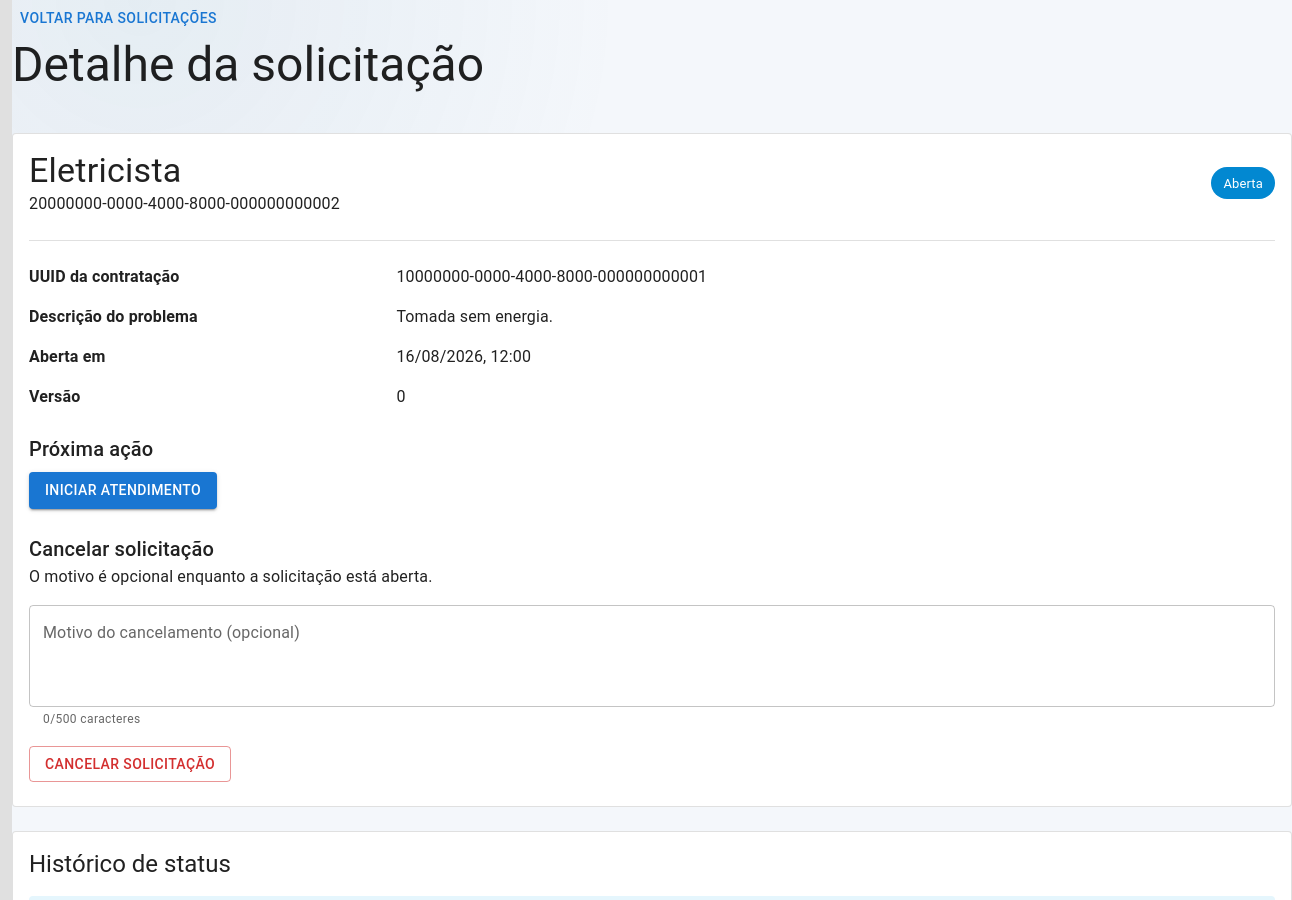
Test case: PaginaDetalheSolicitacao › inicia a solicitacao aberta e apresenta o estado confirmado pela API
The width and height of the screenshot is (1292, 900).
Click the button "Iniciar atendimento". click: (123, 491)
box: [29,472,217,509]
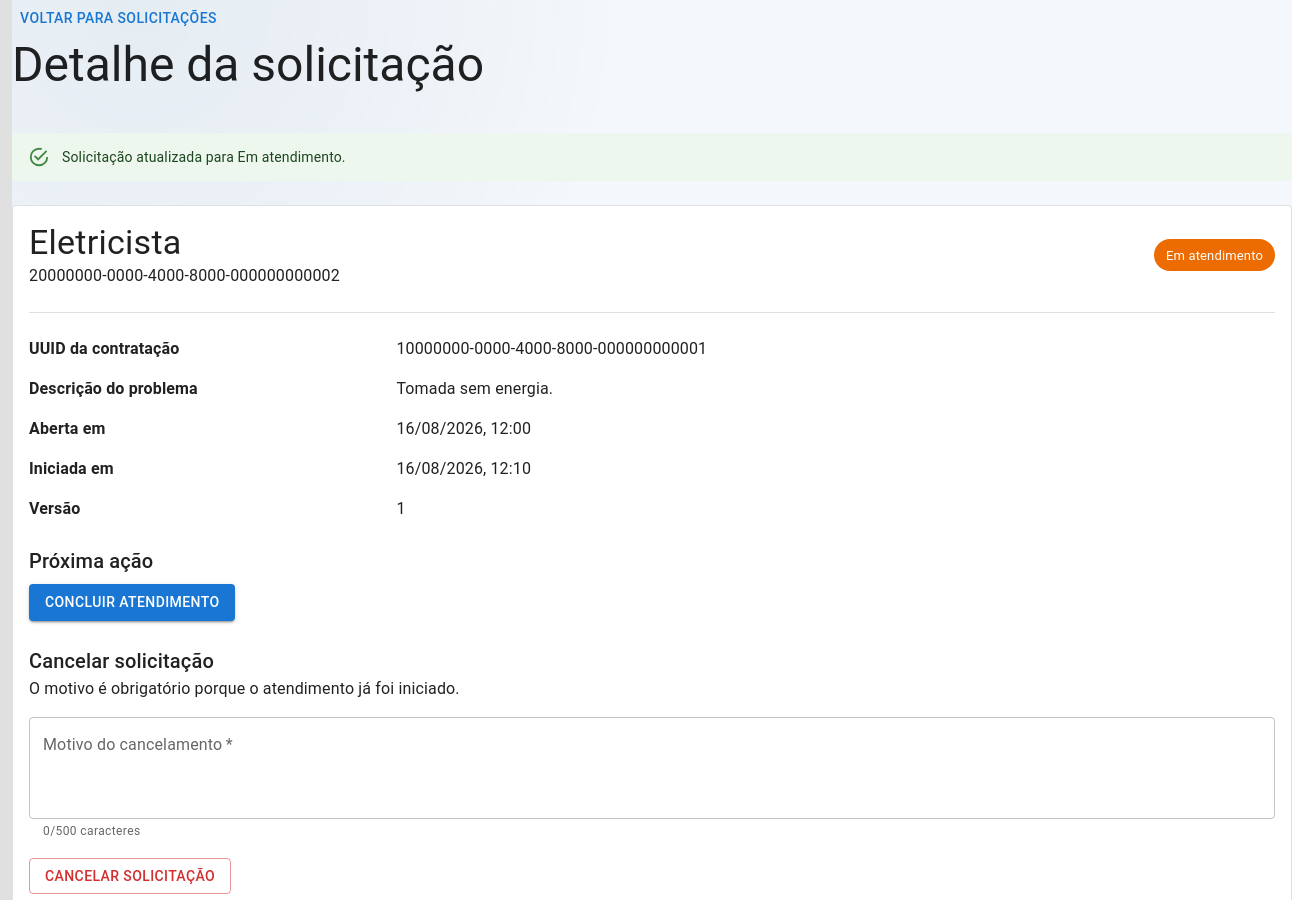
Check: the element named "Status: Em atendimento" is shown, box [1154,239,1275,271]
Check: the button "Concluir atendimento" is shown, box [29,584,236,621]
Check: the message reads "Solicitação atualizada para Em atendimento.", box [62,149,346,165]
